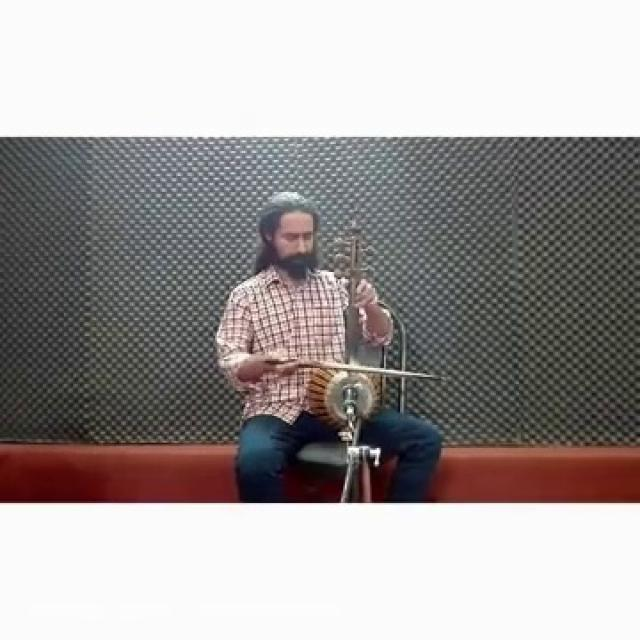Kamanche: (296, 196, 393, 440)
